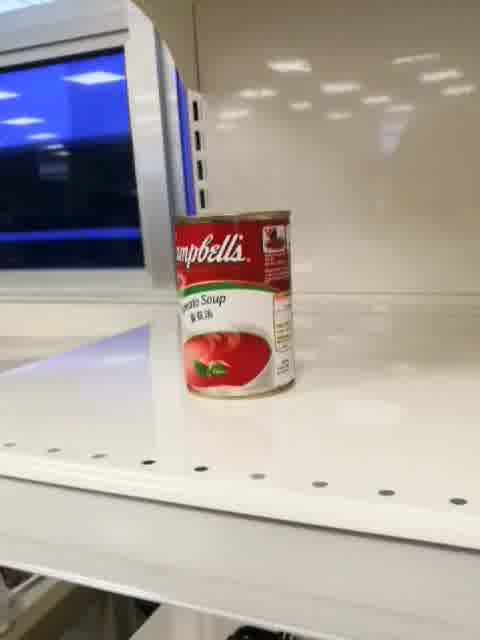tomatosoup: (168, 208, 299, 402)
